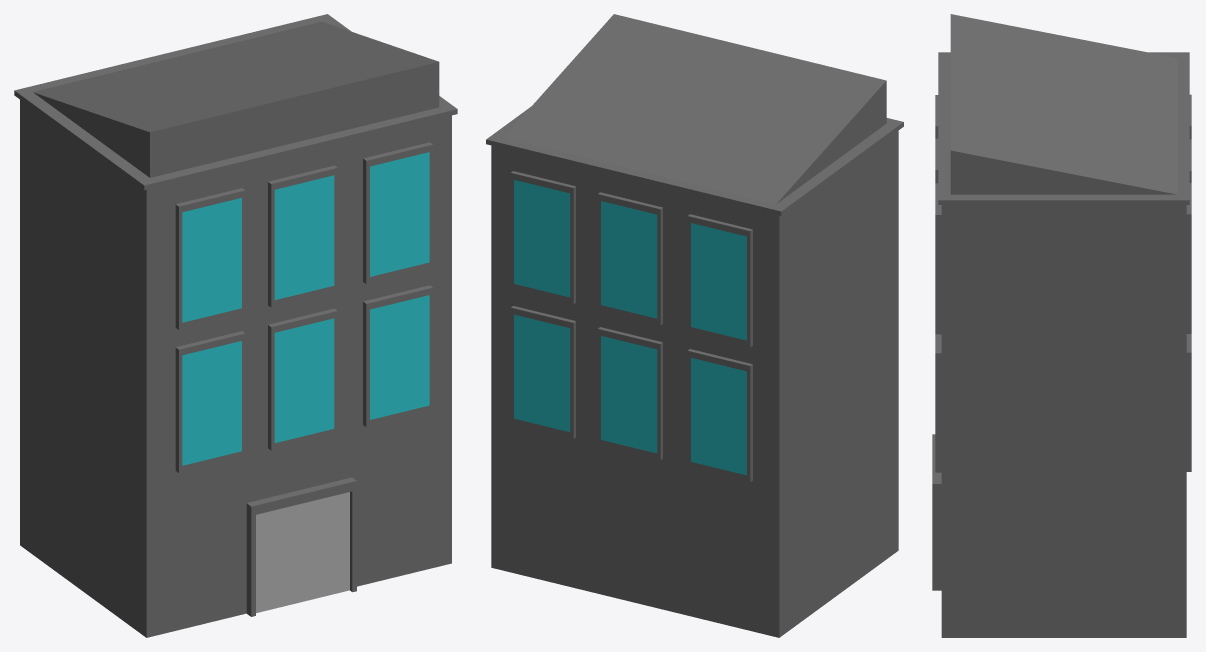
Rendered from Building1.fbx.
3 renders of one model, left to right at view 1: azimuth 30°, elevation 25°; view 2: azimuth 150°, elevation 25°; view 3: azimuth 270°, elevation 25°, orthographic. The views are drawn at different scales.
Visible parts, largest first — view 1: Cube; view 2: Cube; view 3: Cube.
Boxes of the visible parts, x1,y1,x2,y2 form: Cube: (14,14,457,637); Cube: (486,14,903,637); Cube: (932,14,1191,637).
Bounding box in the file's own units: 594 × 906 × 440.
